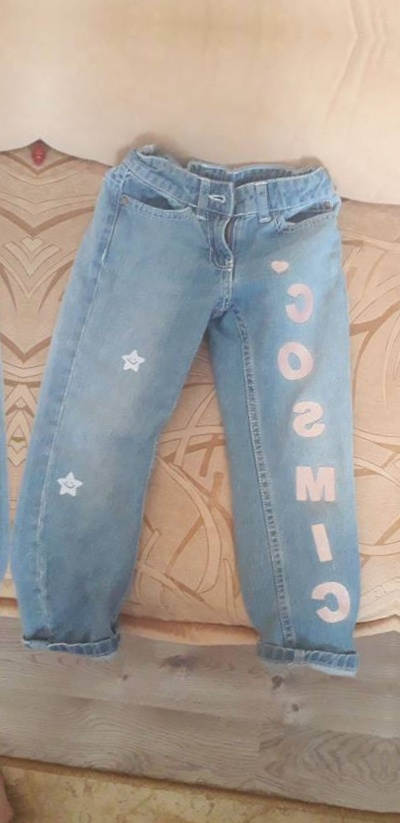Pants: (16, 128, 390, 705), (0, 102, 24, 678)
